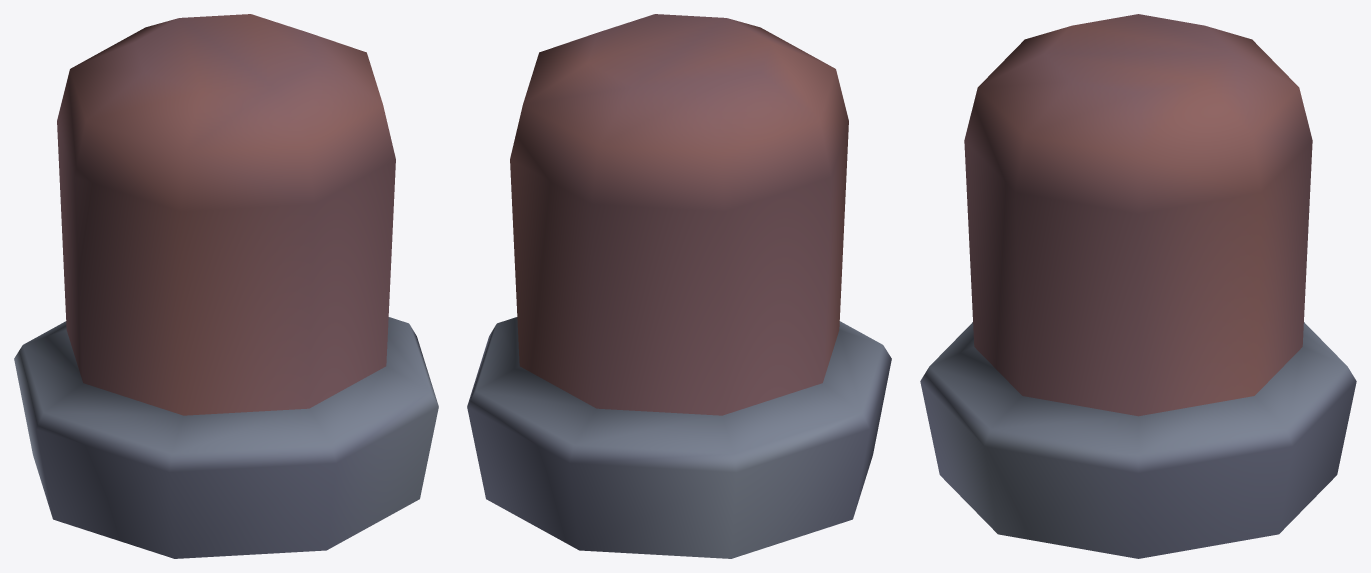
Rendered from PartySubEmergencyLightOff.glb.
3 renders of one model, left to right at view 1: azimuth 30°, elevation 25°; view 2: azimuth 150°, elevation 25°; view 3: azimuth 270°, elevation 25°, orthographic.
Visible parts, largest first — view 1: PartySubEmergencyLightOff; view 2: PartySubEmergencyLightOff; view 3: PartySubEmergencyLightOff.
Part boxes in pixels (x1,y1,x2,y2): PartySubEmergencyLightOff: (14,14,438,558); PartySubEmergencyLightOff: (467,14,891,558); PartySubEmergencyLightOff: (920,14,1356,558).
Bounding box in the file's own units: 0.6125 × 0.6524 × 0.6125.
